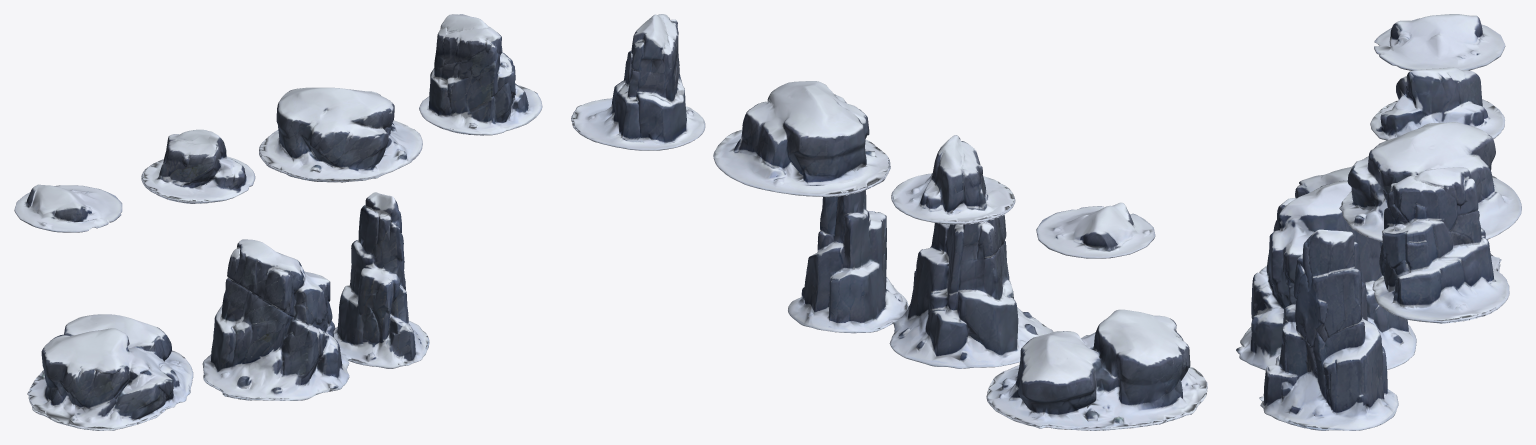
The model's file is rocas.glb.
The picture shows the model from 3 angles, left to right: view 1: azimuth 30°, elevation 25°; view 2: azimuth 150°, elevation 25°; view 3: azimuth 270°, elevation 25°; orthographic projection. The views are drawn at different scales.
Bounding box in the file's own units: 0.9854 × 0.4678 × 0.3792.
1 material, 1 textured.
